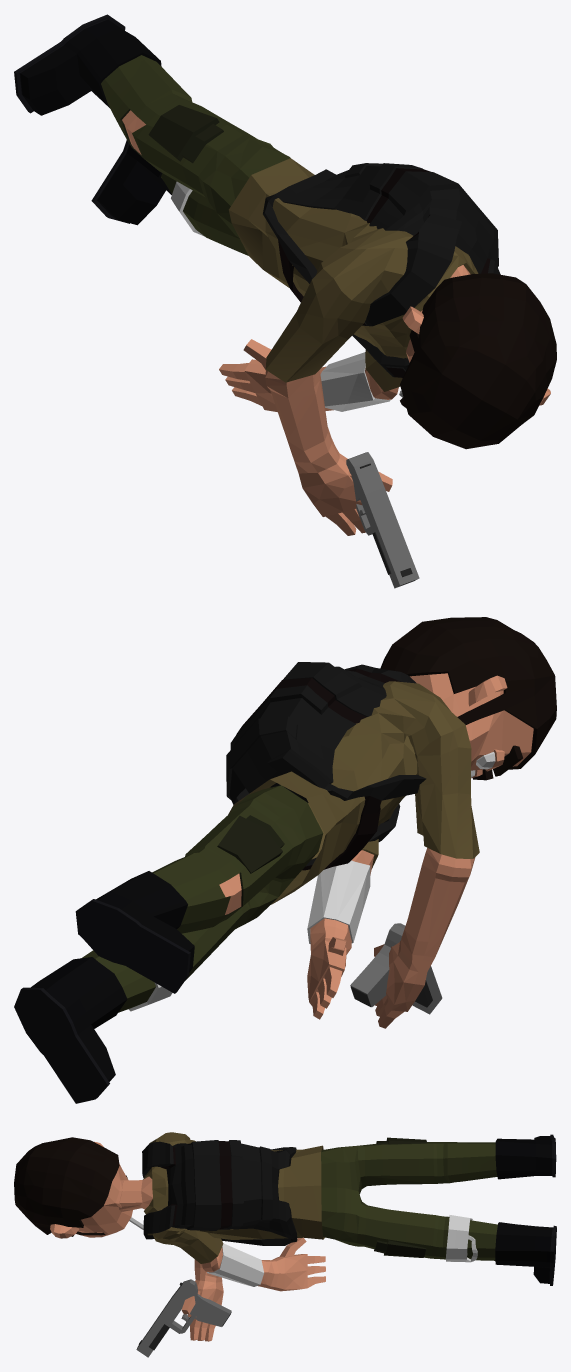
The model's file is frame_0020.obj.
3 renders of one model, top to bottom at view 1: azimuth 30°, elevation 25°; view 2: azimuth 150°, elevation 25°; view 3: azimuth 270°, elevation 25°, orthographic. The views are drawn at different scales.
Parts seen in each view (by area): view 1: Body, Gun; view 2: Body, Gun; view 3: Body, Gun.
Part boxes in pixels (<box>): Body: <box>14,14,556,535</box>; Gun: <box>346,452,419,588</box>; Body: <box>14,617,556,1103</box>; Gun: <box>350,923,442,1014</box>; Body: <box>14,1132,556,1341</box>; Gun: <box>136,1279,231,1357</box>.
Size of the model in its own units: 1.29 by 1.98 by 4.15.
